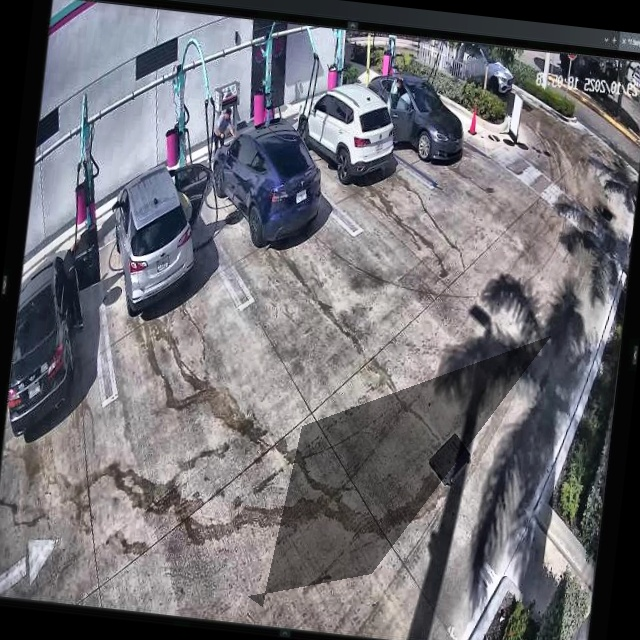Car: (103, 153, 211, 327), (206, 111, 330, 253), (291, 76, 397, 189), (358, 68, 469, 170)
